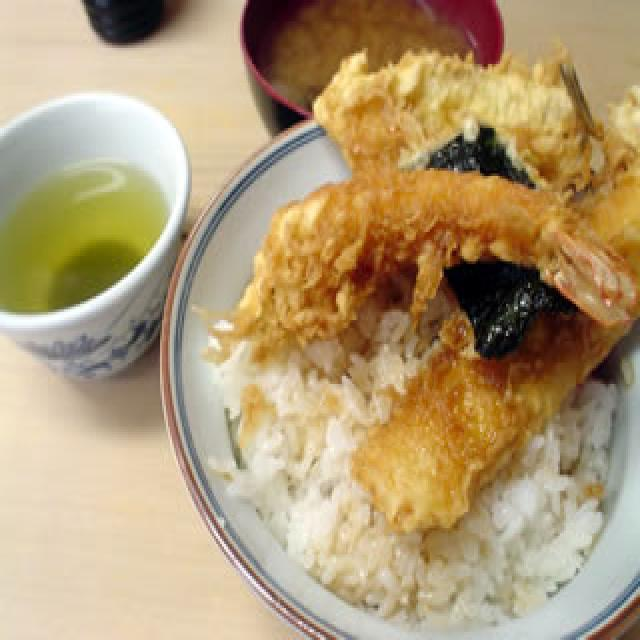熟制海鲜: (152, 37, 640, 640)
